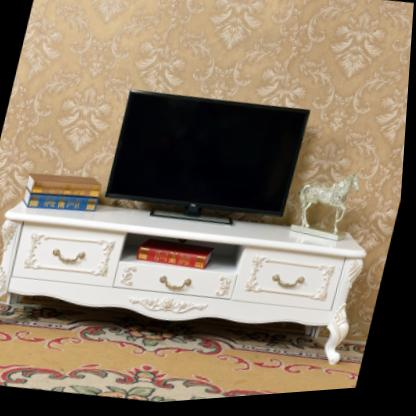Carpet: (0, 306, 371, 405)
TV stand: (0, 162, 381, 394)
